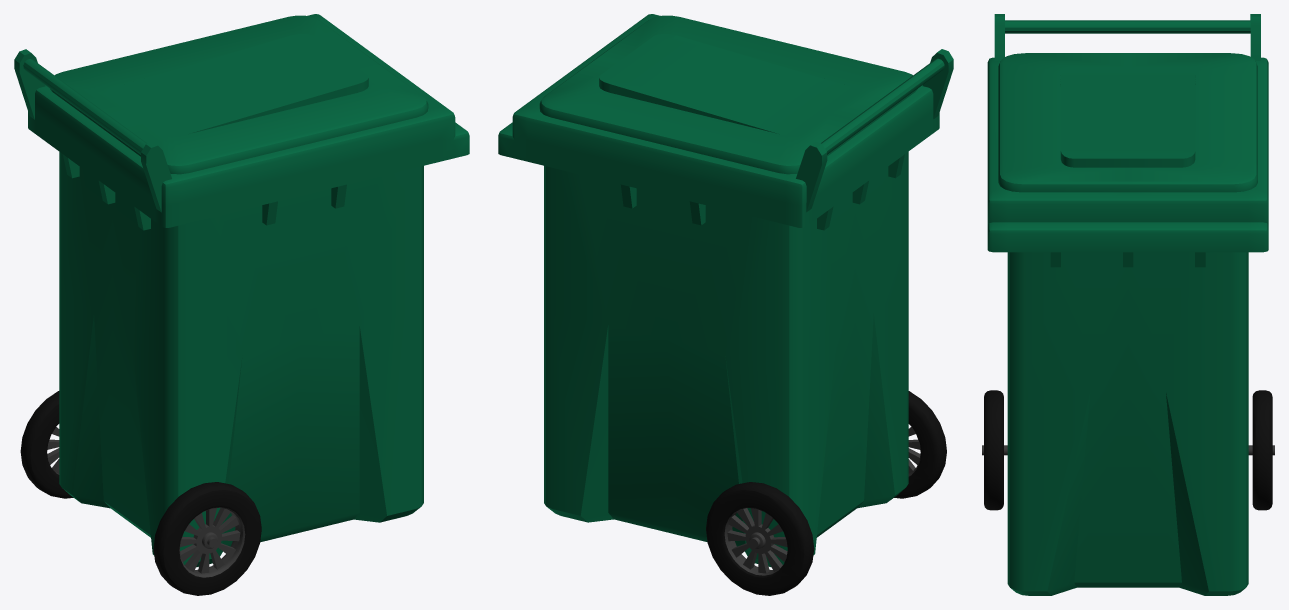
Rendered from Wheelie_Bin_Closed.glb.
3 views of the same model, side by side, from view 1: azimuth 30°, elevation 25°; view 2: azimuth 150°, elevation 25°; view 3: azimuth 270°, elevation 25° (orthographic).
Visible parts, largest first — view 1: Mesh_Wheelie_Bin_Closed; view 2: Mesh_Wheelie_Bin_Closed; view 3: Mesh_Wheelie_Bin_Closed.
Boxes of the visible parts, box(x1,y1,x2,y2) form: Mesh_Wheelie_Bin_Closed: box(14, 14, 469, 595); Mesh_Wheelie_Bin_Closed: box(498, 14, 953, 595); Mesh_Wheelie_Bin_Closed: box(982, 14, 1274, 595).
Size of the model in its own units: 0.937 by 1.28 by 0.7301.
Materials: 1 (1 with a texture image).
